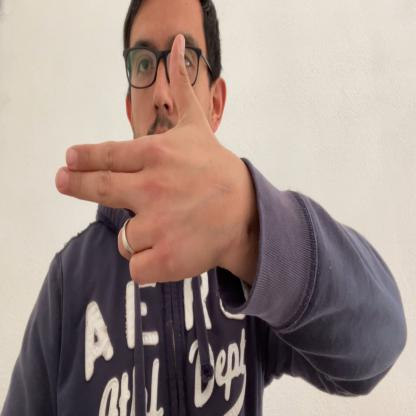H: (53, 30, 224, 289)
